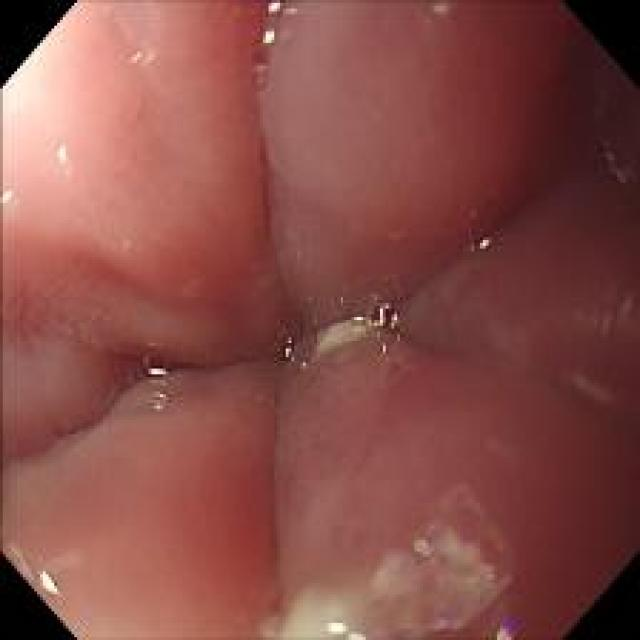bubbles: (246, 5, 325, 51), (362, 291, 416, 355)
color misalignment: (604, 135, 632, 192), (425, 606, 464, 635), (492, 612, 514, 638)
contrast: (531, 29, 631, 208)
specularity: (39, 570, 59, 596), (476, 234, 490, 254), (324, 621, 345, 632), (146, 365, 166, 376), (386, 312, 399, 328), (0, 190, 12, 204), (58, 144, 66, 164), (378, 301, 384, 325), (264, 29, 275, 41), (350, 315, 364, 324), (270, 2, 280, 14), (286, 338, 290, 356)
